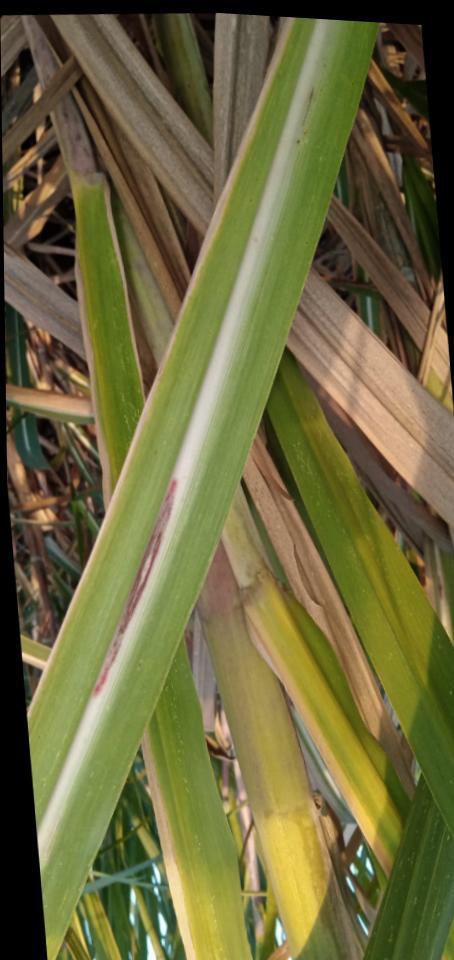RedRot: (90, 477, 180, 698)
